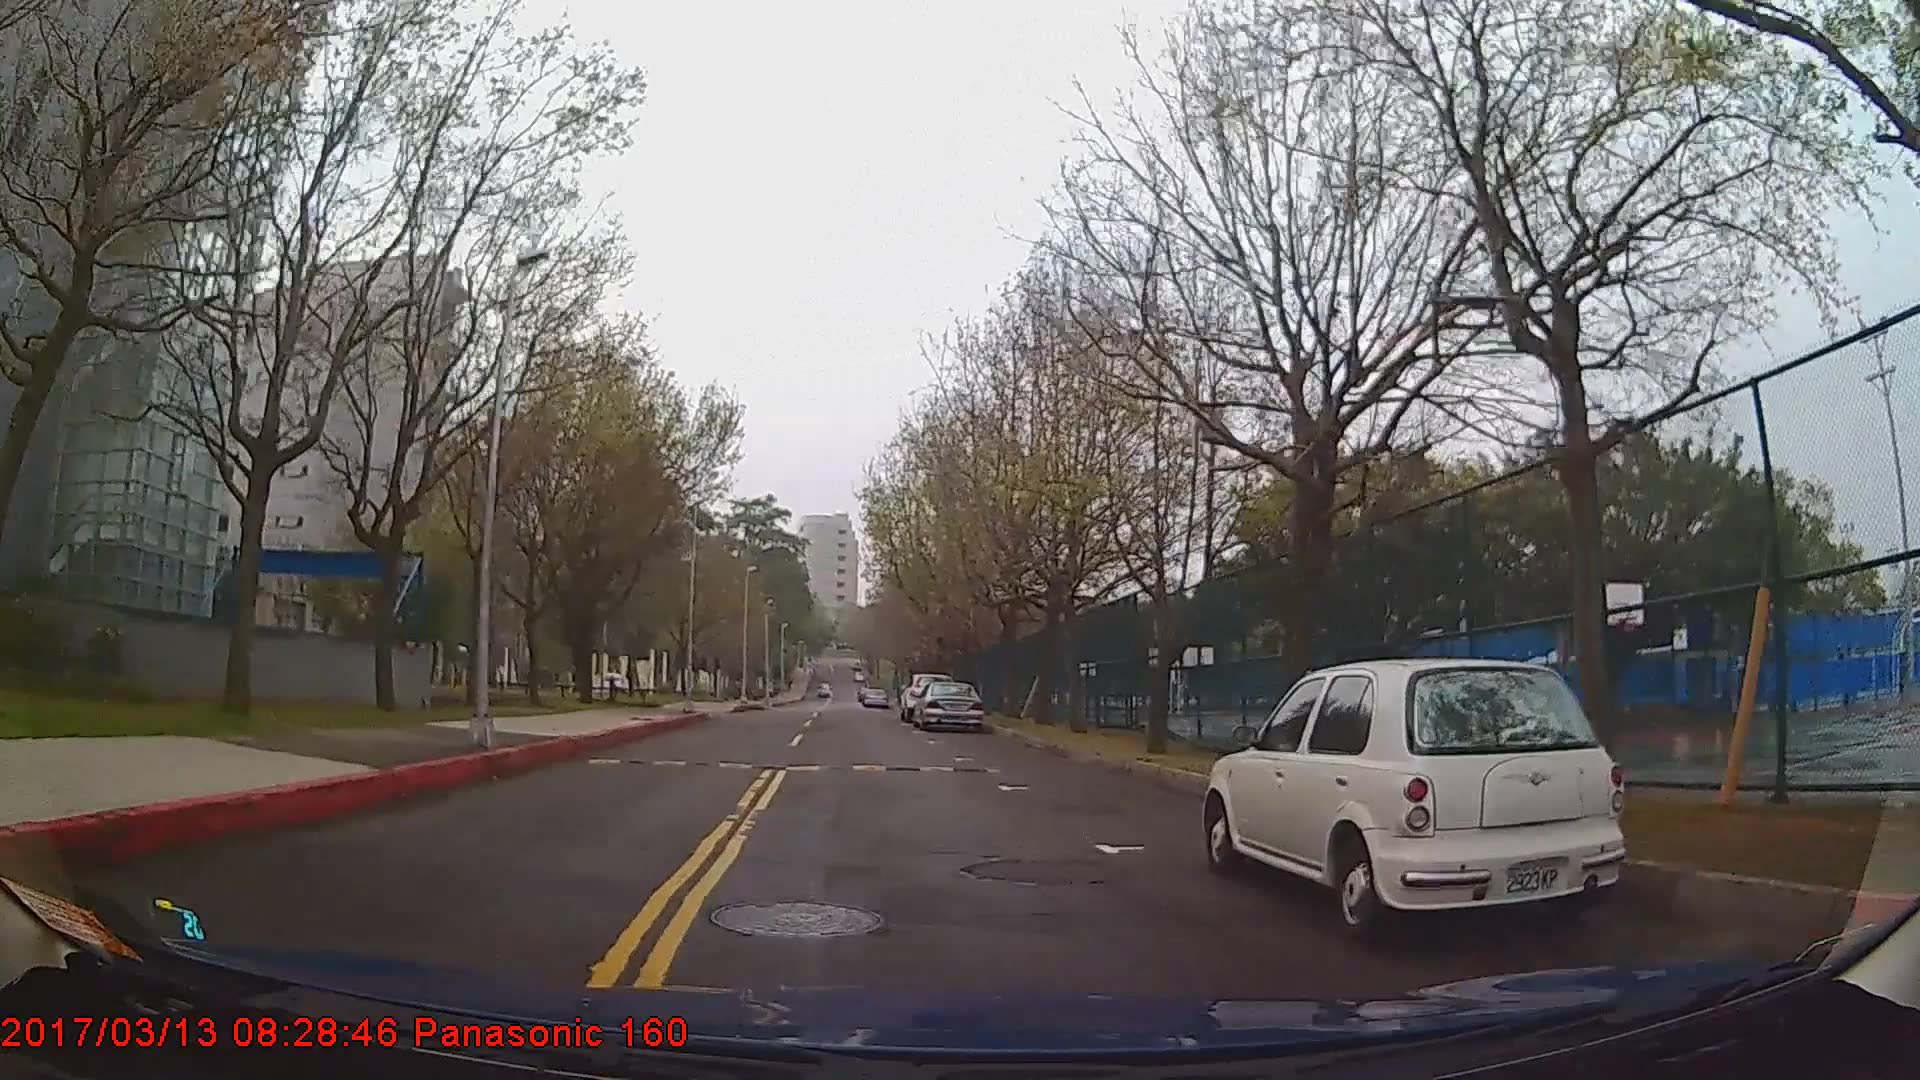vehicle: (1201, 655, 1629, 942), (913, 676, 986, 728)
